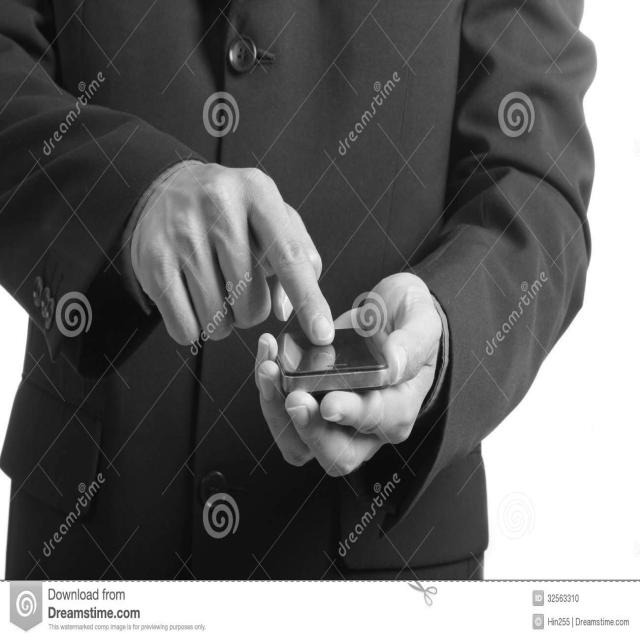No gun_phone: (274, 330, 388, 396)
